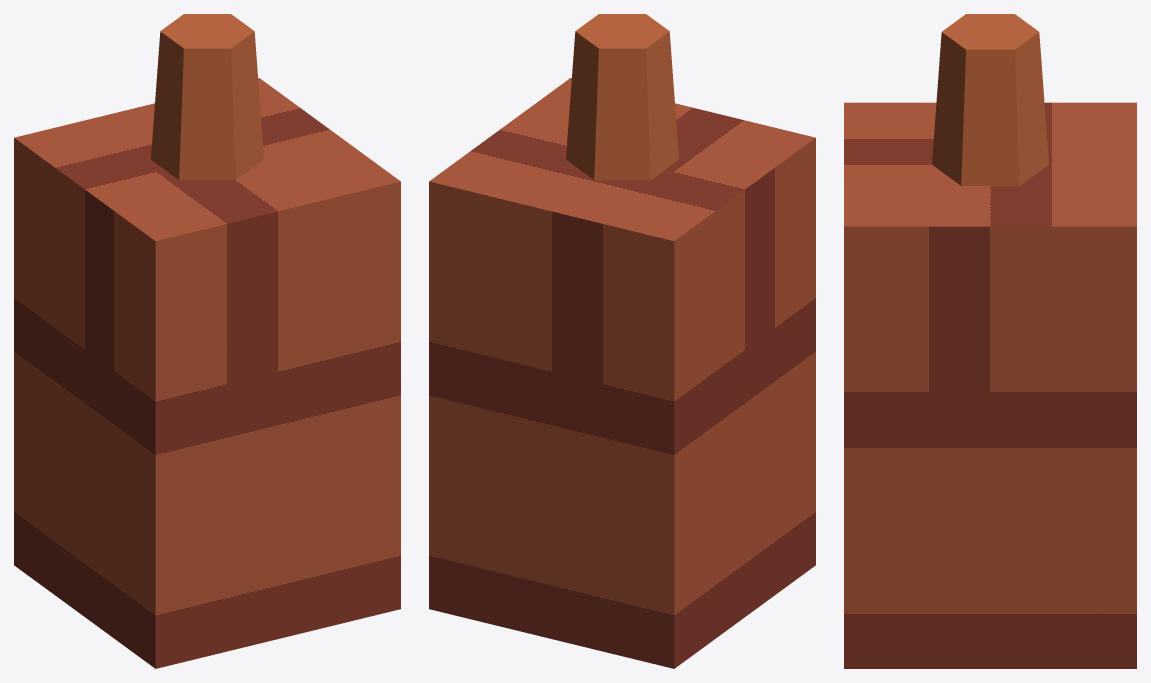
The model's file is chimney_pot.glb.
3 views of the same model, side by side, from view 1: azimuth 30°, elevation 25°; view 2: azimuth 150°, elevation 25°; view 3: azimuth 270°, elevation 25° (orthographic). The views are drawn at different scales.
Parts seen in each view (by area): view 1: chimney_pot; view 2: chimney_pot; view 3: chimney_pot.
Part boxes in pixels (x1,y1,x2,y2): chimney_pot: (14,14,400,668); chimney_pot: (429,14,815,668); chimney_pot: (844,14,1136,668).
Bounding box in the file's own units: 0.6 × 1.3 × 0.6.
2 materials, 1 textured.
